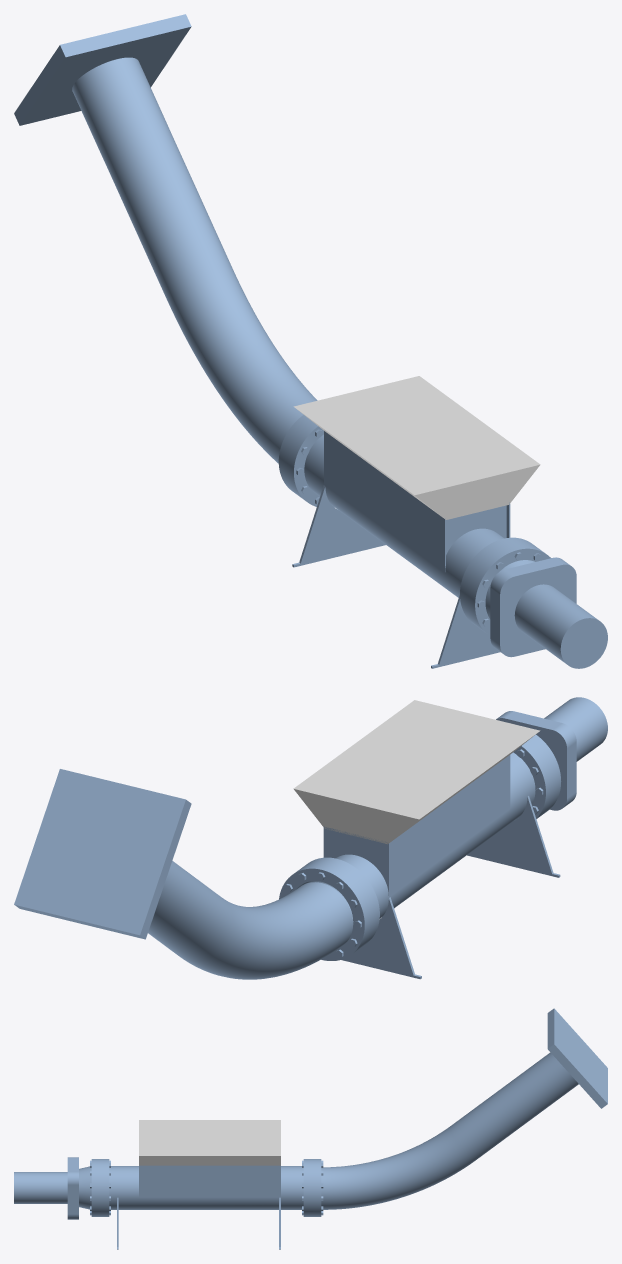
The model's file is screw-press.gltf.
3 renders of one model, top to bottom at view 1: azimuth 30°, elevation 25°; view 2: azimuth 150°, elevation 25°; view 3: azimuth 270°, elevation 25°, orthographic. The views are drawn at different scales.
Visible parts, largest first — view 1: 放样 [230826], 融合 [230776], 拉伸 [230839], 拉伸 [231016], 拉伸 [231318], 拉伸 [230806], 拉伸 [231334], 连接的实心几何图形 [230825], 拉伸 [231182], 拉伸 [231032], 拉伸 [231197], 拉伸 [230996]; view 2: 拉伸 [230839], 融合 [230776], 放样 [230826], 拉伸 [231016], 拉伸 [230806], 拉伸 [231032], 拉伸 [231197], 拉伸 [231334], 拉伸 [231182], 连接的实心几何图形 [230825], 拉伸 [231318], 拉伸 [231004]; view 3: 放样 [230826], 融合 [230776], 拉伸 [231016], 拉伸 [230806], 拉伸 [230839], 拉伸 [231318], 连接的实心几何图形 [230825], 拉伸 [231032], 拉伸 [231334], 融合 [231323].
Part boxes in pixels (box(x1,y1,x2,y2)): 放样 [230826]: box(72, 57, 317, 463); 融合 [230776]: box(293, 376, 540, 519); 拉伸 [230839]: box(14, 14, 191, 125); 拉伸 [231016]: box(324, 431, 510, 572); 拉伸 [231318]: box(514, 584, 607, 668); 拉伸 [230806]: box(304, 434, 504, 597); 拉伸 [231334]: box(490, 557, 576, 657); 连接的实心几何图形 [230825]: box(460, 537, 550, 635); 拉伸 [231182]: box(292, 485, 385, 567); 拉伸 [231032]: box(278, 415, 334, 507); 拉伸 [231197]: box(431, 595, 500, 668); 拉伸 [230996]: box(446, 505, 506, 554); 拉伸 [230839]: box(14, 769, 191, 939); 融合 [230776]: box(293, 700, 540, 844); 放样 [230826]: box(148, 861, 353, 979); 拉伸 [231016]: box(323, 755, 510, 896); 拉伸 [230806]: box(308, 752, 535, 921); 拉伸 [231032]: box(279, 857, 379, 960); 拉伸 [231197]: box(467, 796, 560, 877); 拉伸 [231334]: box(496, 711, 576, 810); 拉伸 [231182]: box(341, 897, 421, 979); 连接的实心几何图形 [230825]: box(513, 734, 561, 819); 拉伸 [231318]: box(544, 697, 607, 761); 拉伸 [231004]: box(325, 827, 387, 888); 放样 [230826]: box(321, 1052, 578, 1209); 融合 [230776]: box(139, 1120, 280, 1165); 拉伸 [231016]: box(139, 1165, 280, 1197); 拉伸 [230806]: box(109, 1166, 303, 1209); 拉伸 [230839]: box(547, 1008, 607, 1108); 拉伸 [231318]: box(14, 1172, 67, 1203); 连接的实心几何图形 [230825]: box(90, 1159, 110, 1216); 拉伸 [231032]: box(303, 1159, 321, 1216); 拉伸 [231334]: box(67, 1157, 78, 1219); 融合 [231323]: box(79, 1166, 91, 1209).
Size of the model in its own units: 1.22 by 3.19 by 8.37.
